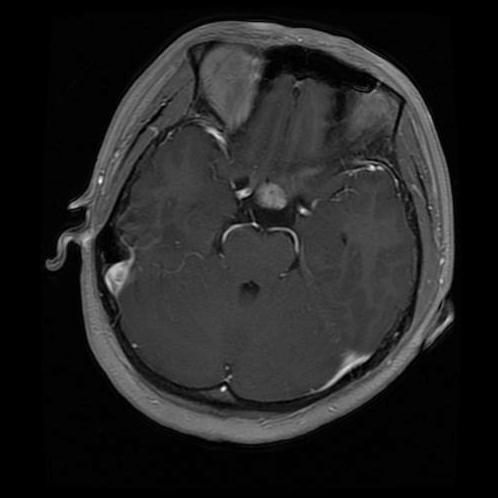Tumour-Pituitary: (256, 183, 291, 213)
